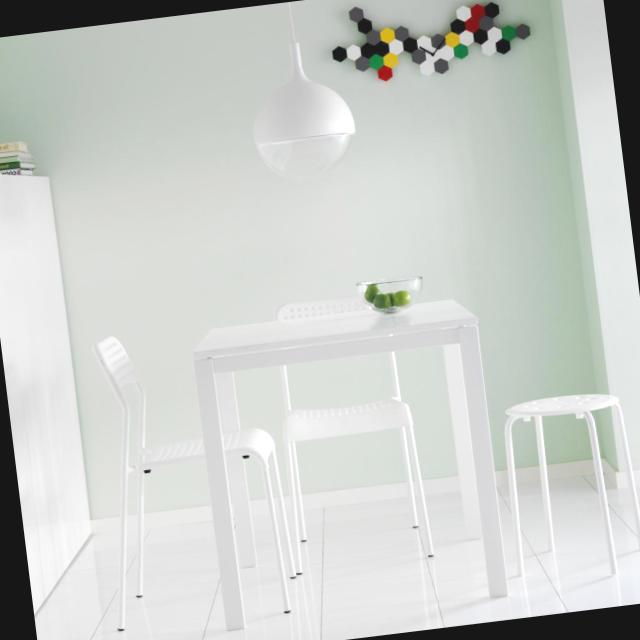obstacle: (182, 288, 516, 636), (75, 314, 302, 639), (491, 372, 640, 589)
